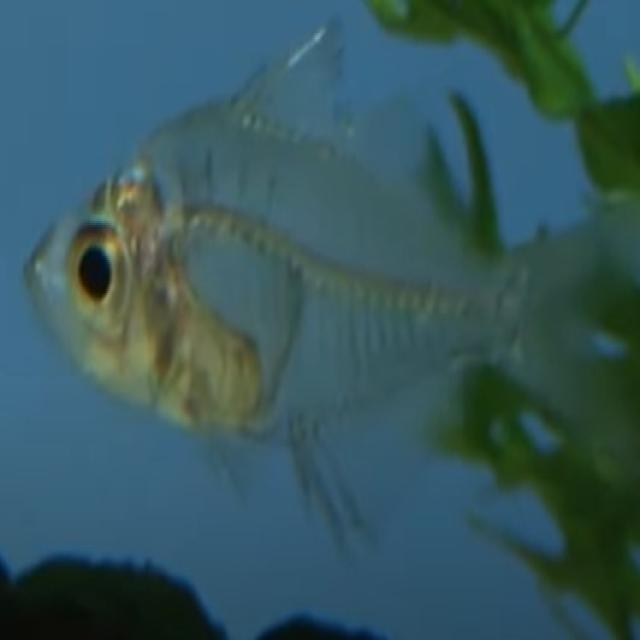Glass-Perchlet: (15, 38, 615, 545)
